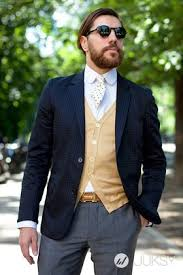F_M_suit jacket: (18, 72, 168, 231)
F_belt: (68, 189, 114, 208)
